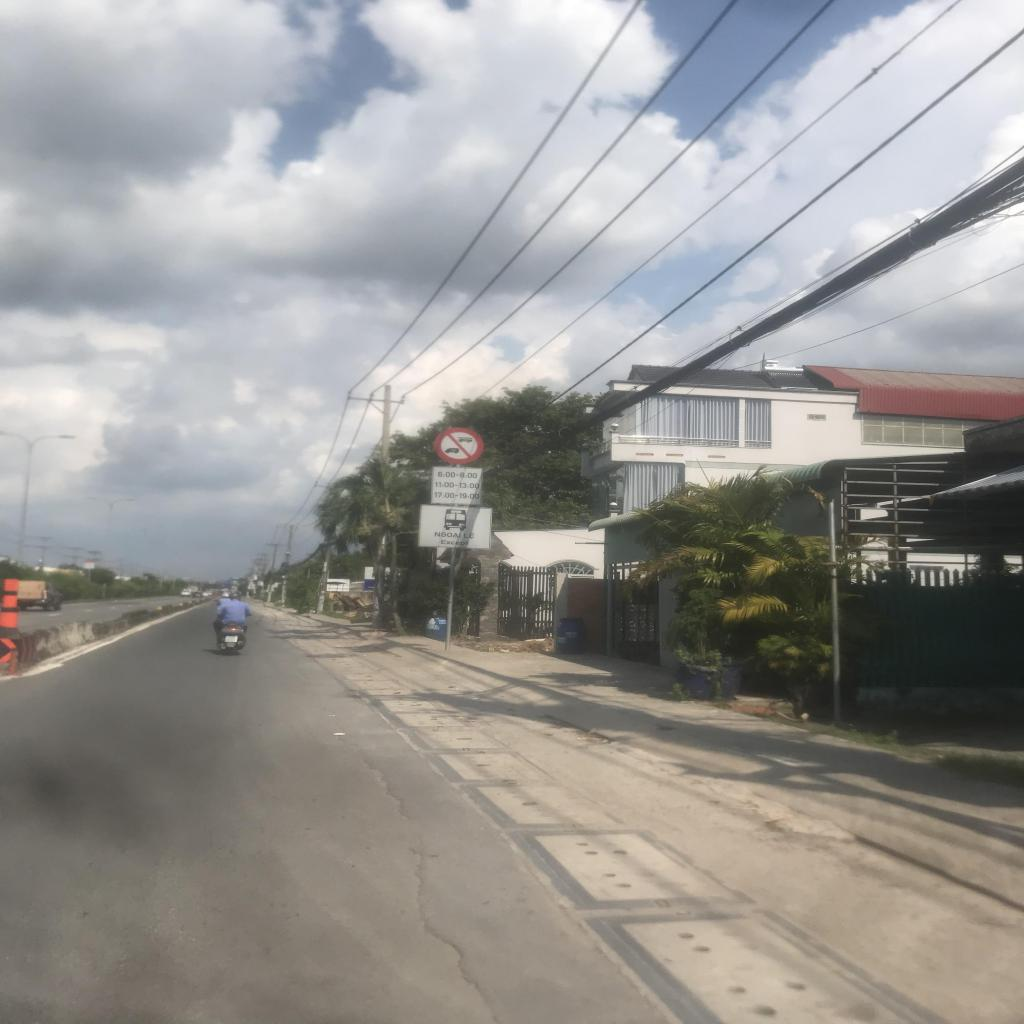cam_o_to_tai_va_xe_khach: (432, 427, 486, 464)
khac: (418, 505, 493, 551), (430, 466, 483, 505)
